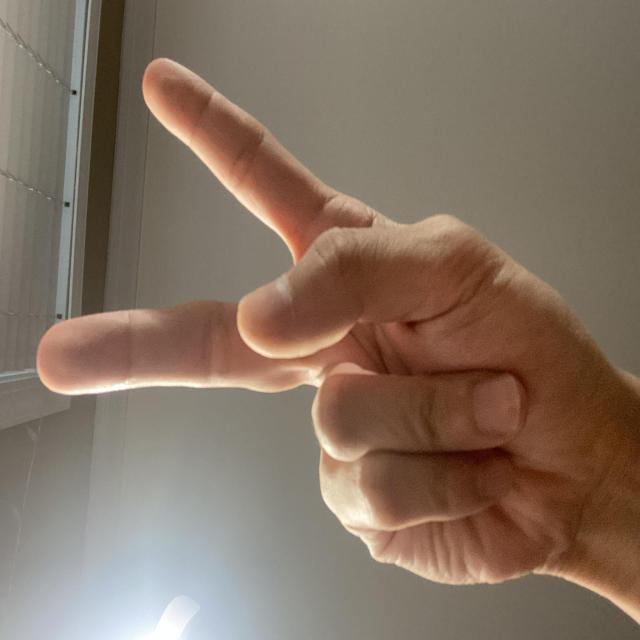K: (27, 41, 448, 640)
